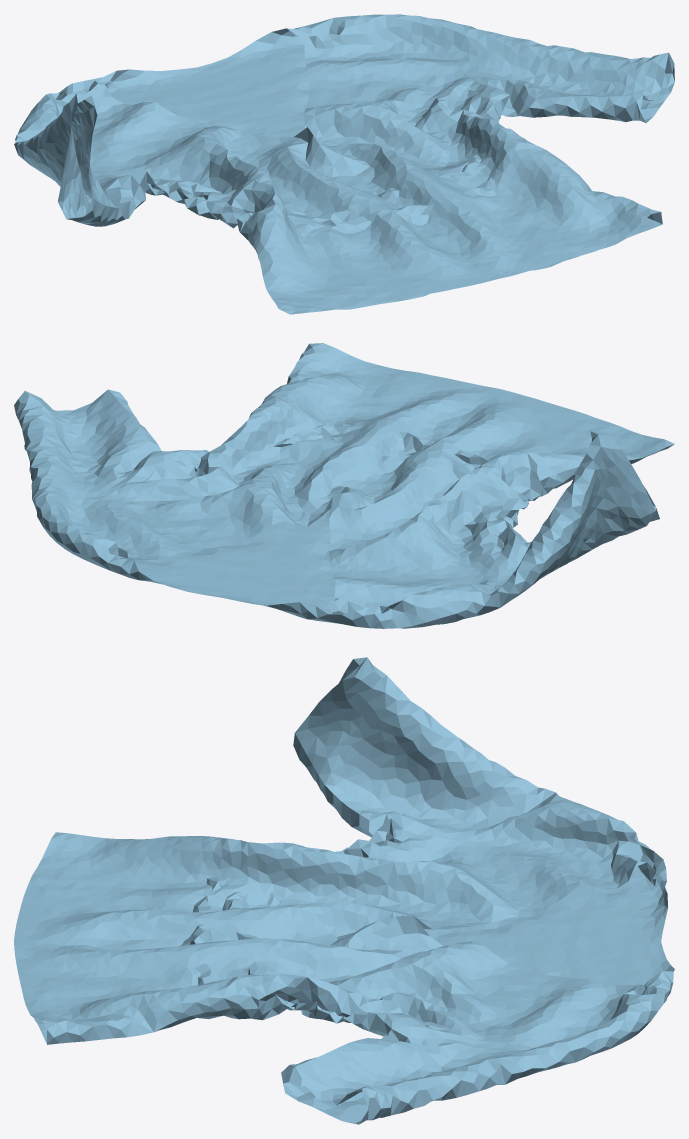
Rendered from frame_07.glb.
The picture shows the model from 3 angles, top to bottom: view 1: azimuth 30°, elevation 25°; view 2: azimuth 150°, elevation 25°; view 3: azimuth 270°, elevation 25°; orthographic projection. The views are drawn at different scales.
Visible parts, largest first — view 1: frame_07.obj; view 2: frame_07.obj; view 3: frame_07.obj.
Part boxes in pixels (x1,y1,x2,y2): frame_07.obj: (14,14,674,314); frame_07.obj: (14,343,674,628); frame_07.obj: (14,657,674,1124).
Bounding box in the file's own units: 1.83 × 0.3802 × 1.48.
